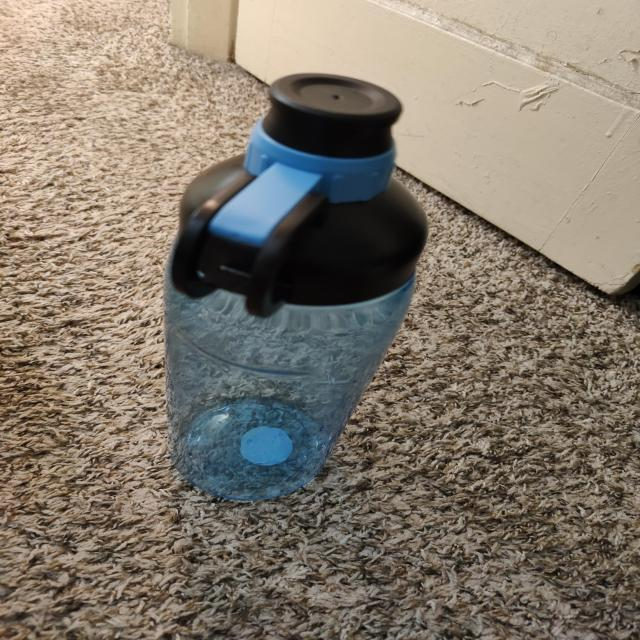bottle: (164, 84, 433, 512)
